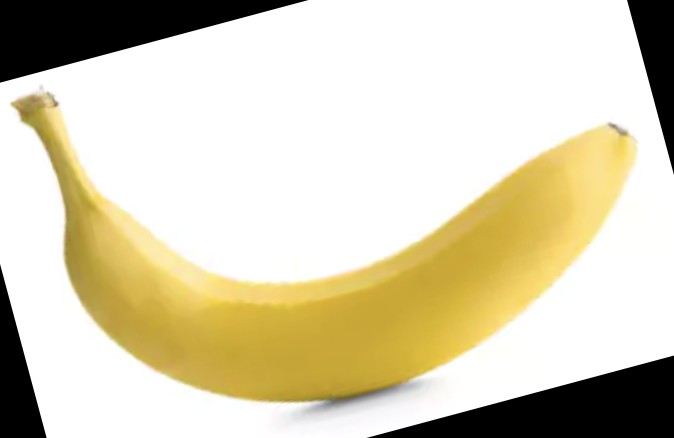fresh_banana: (12, 90, 639, 403)
